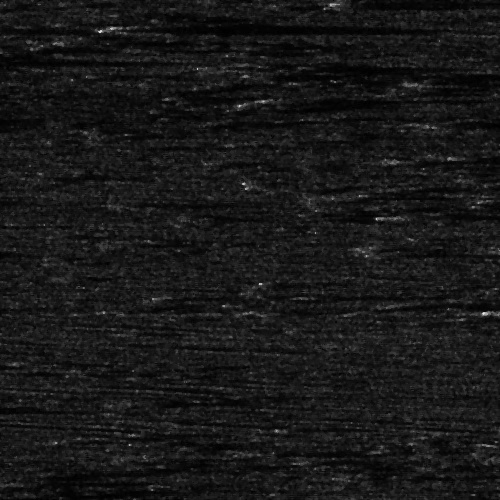object: (83, 21, 146, 32), (256, 92, 319, 103), (321, 0, 374, 8), (386, 214, 417, 217), (7, 479, 38, 482), (402, 157, 433, 160), (489, 438, 500, 445)
shadow: (114, 21, 426, 32), (288, 92, 500, 103), (0, 400, 120, 413), (348, 0, 500, 8), (0, 60, 201, 63), (0, 51, 37, 60), (402, 214, 500, 217), (22, 479, 119, 482), (418, 157, 500, 160)
